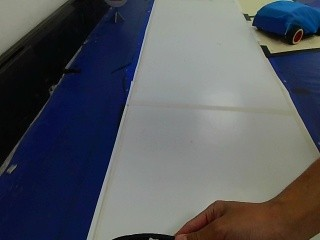car: (244, 0, 318, 49)
